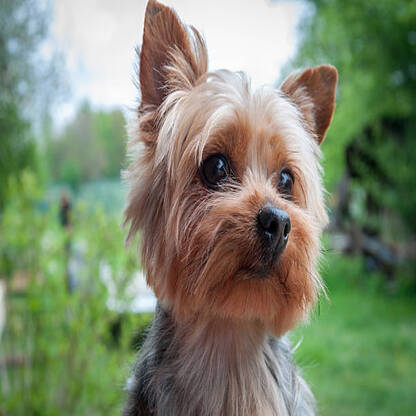yorkshire: (121, 1, 344, 416)
